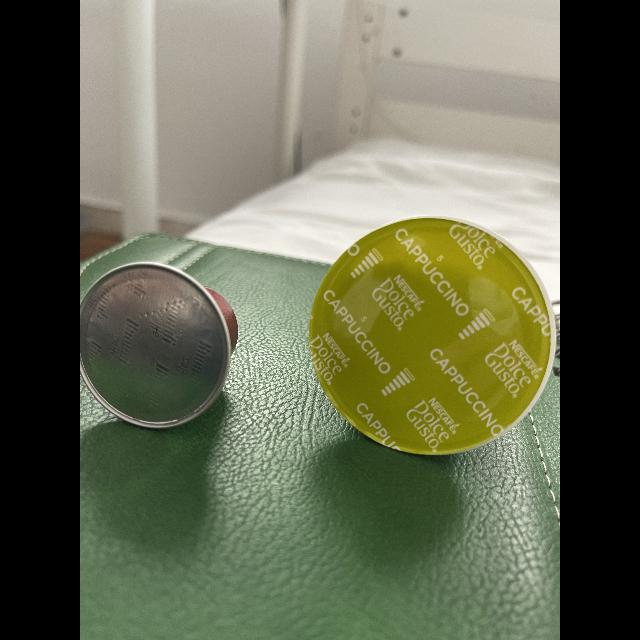intact_capsule: (304, 198, 560, 466), (80, 250, 244, 434)
